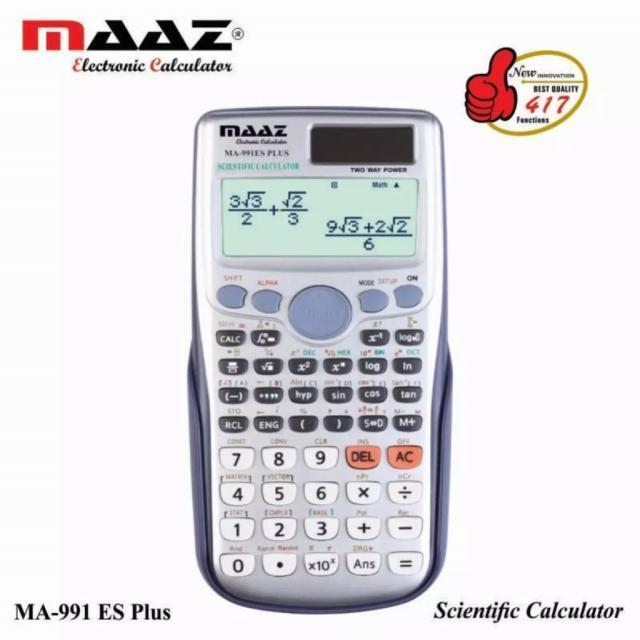Calculator: (188, 105, 457, 618)
